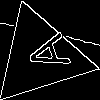A: (15, 31, 71, 77)
